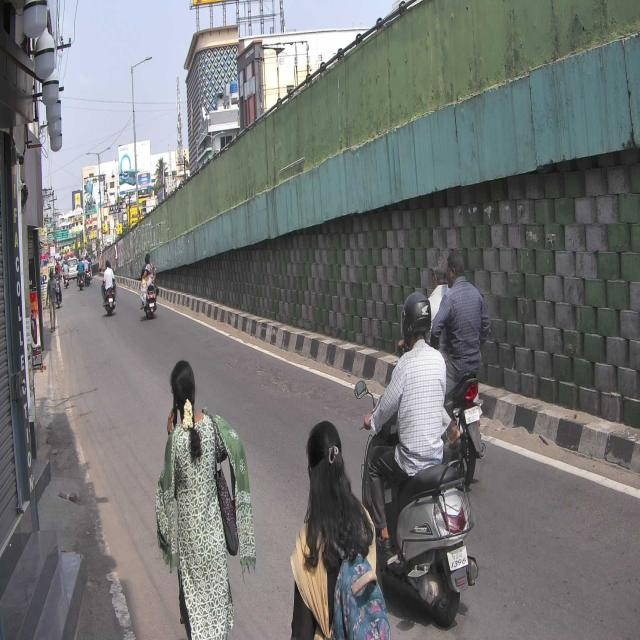single_rider: (354, 290, 476, 624)
